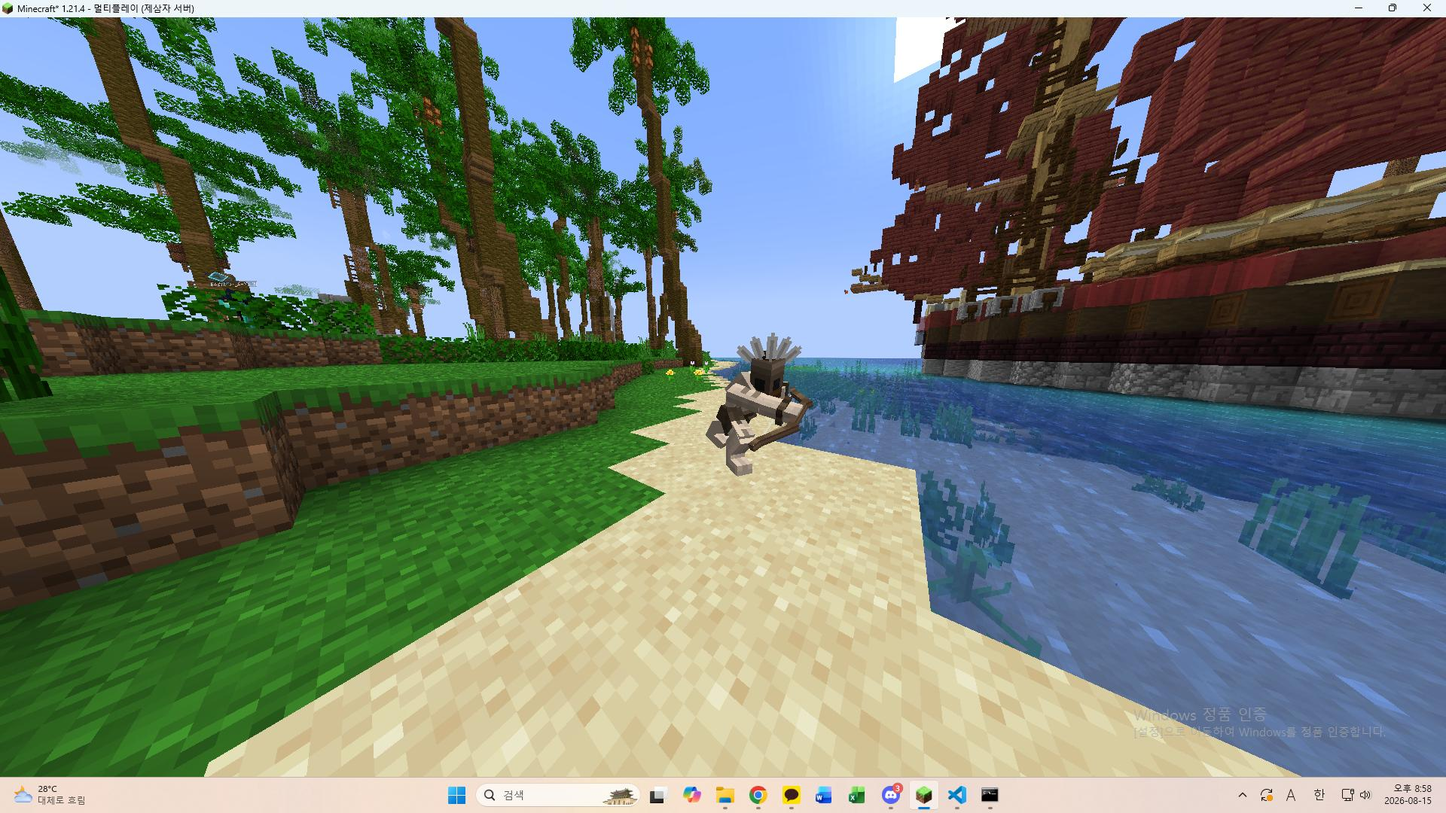bow_indian: (703, 326, 823, 480)
